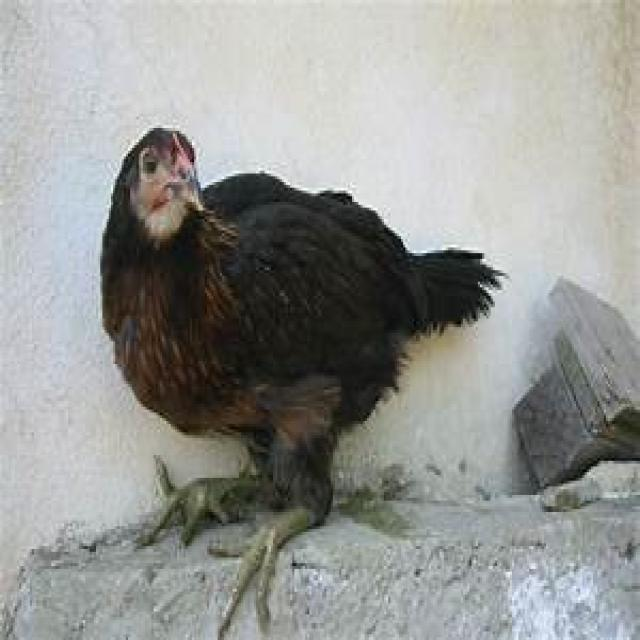animal: (101, 127, 456, 596)
